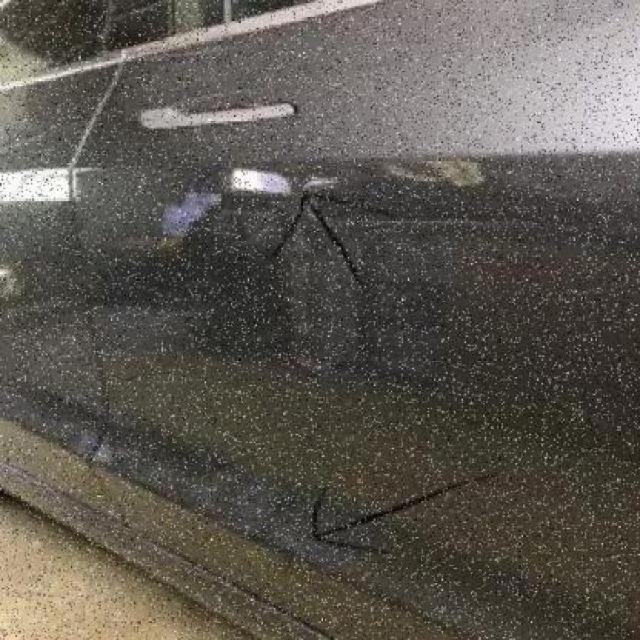doorouter-dent: (89, 57, 633, 611)
